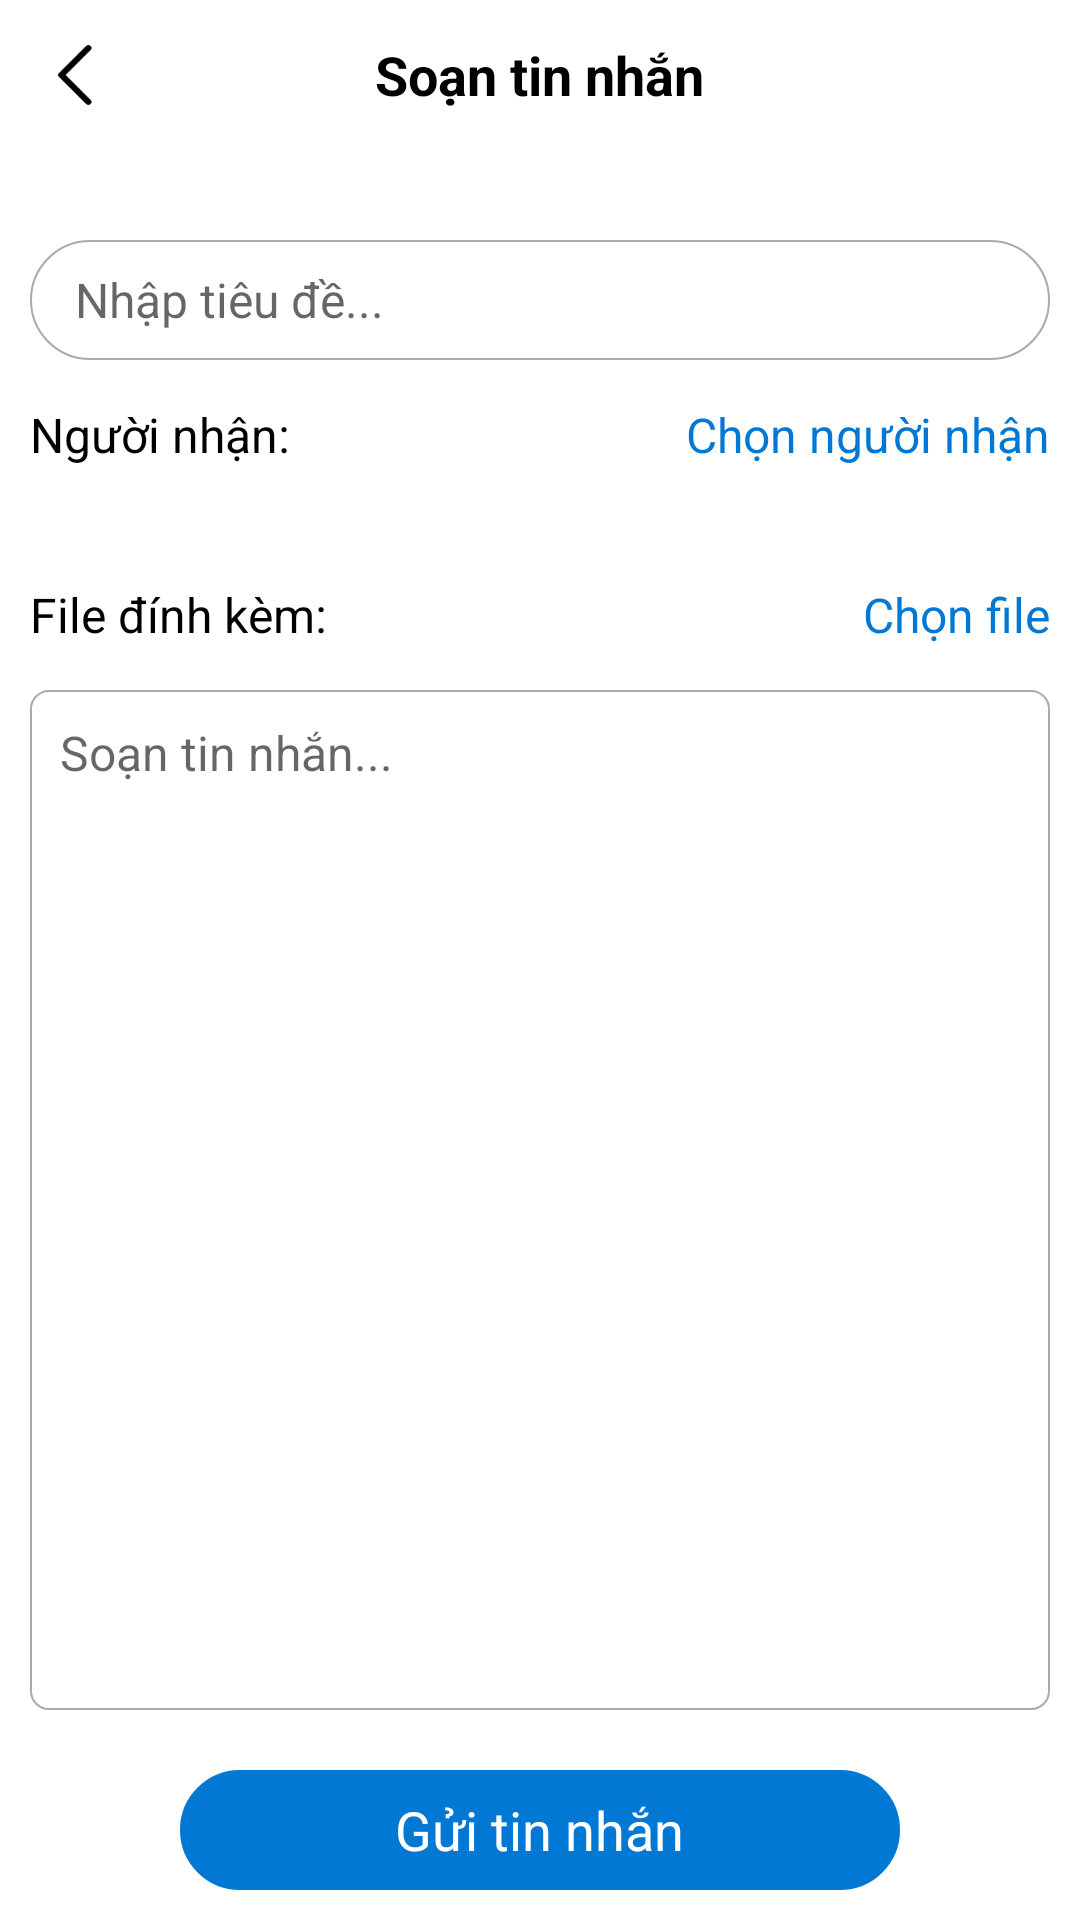

Screen size 1080 x 1920. Icon name, then its box in pixels as (x1, y1, x2, y2):
back: (58, 45, 92, 105)
